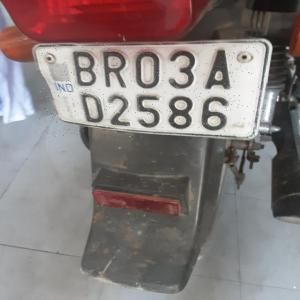Plate: (39, 42, 267, 138)
